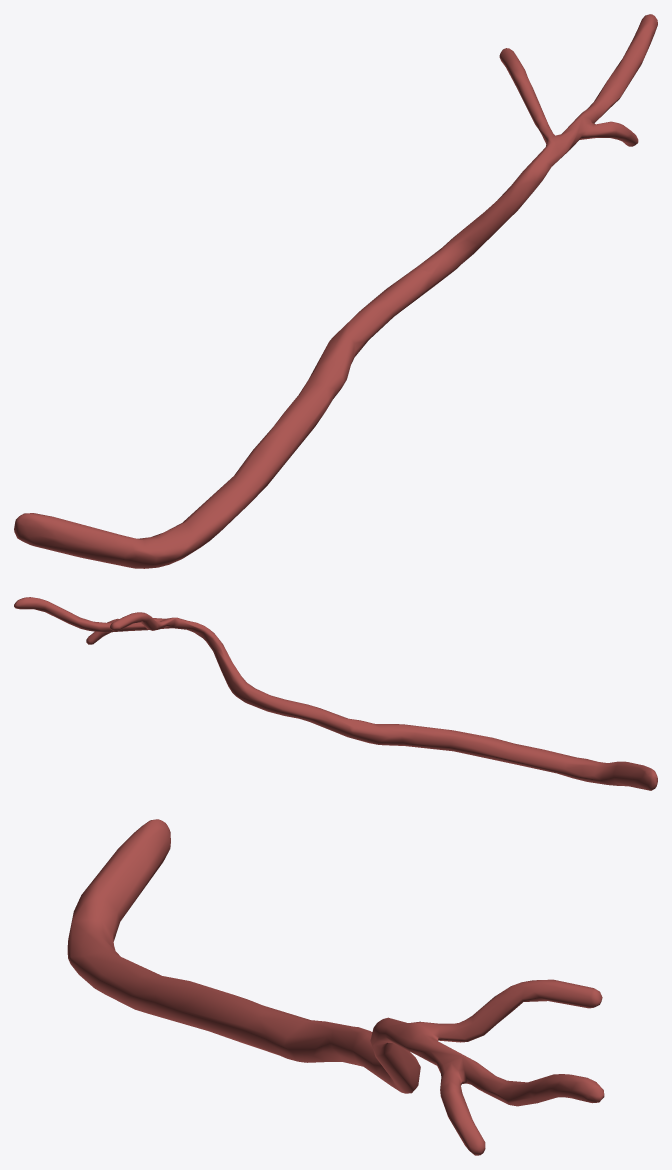
Rendered from FMA14331.glb.
3 renders of one model, top to bottom at view 1: azimuth 30°, elevation 25°; view 2: azimuth 150°, elevation 25°; view 3: azimuth 270°, elevation 25°, orthographic. The views are drawn at different scales.
Parts seen in each view (by area): view 1: FMA14331; view 2: FMA14331; view 3: FMA14331.
Boxes of the visible parts, x1,y1,x2,y2 form: FMA14331: [14, 14, 657, 568]; FMA14331: [14, 597, 657, 790]; FMA14331: [67, 819, 604, 1155].
Size of the model in its own units: 0.1079 by 0.0321 by 0.0471.
